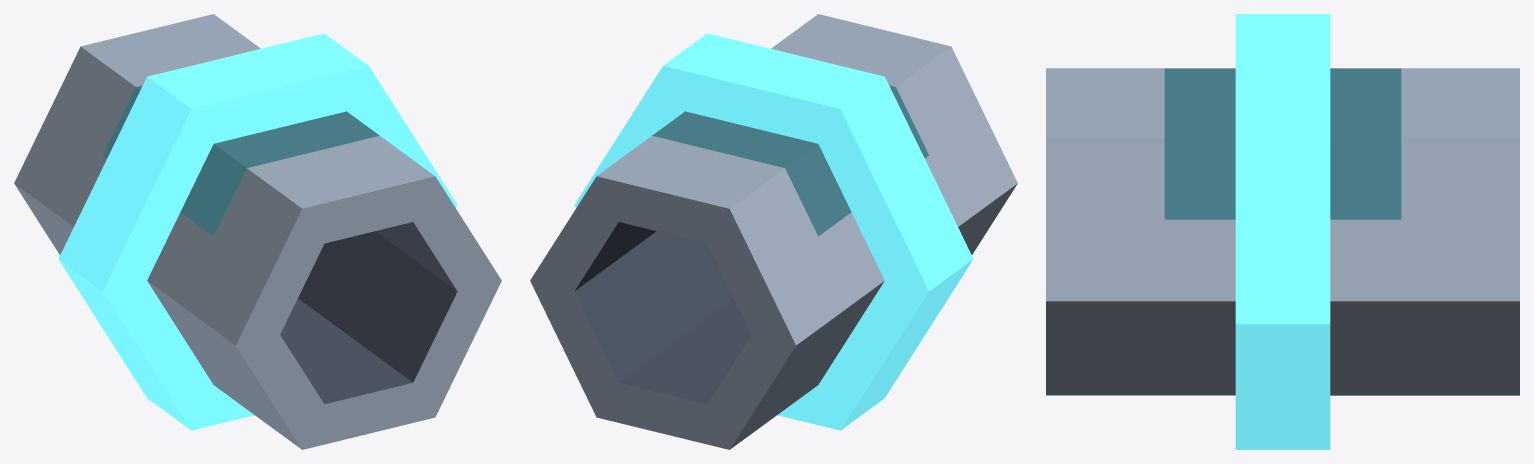
Rendered from pipe_ring.glb.
3 views of the same model, side by side, from view 1: azimuth 30°, elevation 25°; view 2: azimuth 150°, elevation 25°; view 3: azimuth 270°, elevation 25° (orthographic). The views are drawn at different scales.
Visible parts, largest first — view 1: pipe_ring; view 2: pipe_ring; view 3: pipe_ring.
Part boxes in pixels (<box>): pipe_ring: <box>14,14,501,449</box>; pipe_ring: <box>530,14,1017,449</box>; pipe_ring: <box>1046,14,1519,449</box>.
Size of the model in its own units: 0.9238 by 0.8 by 1.
